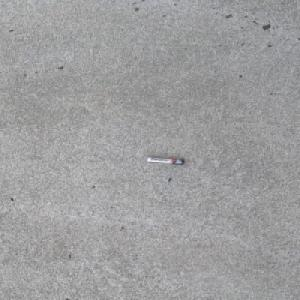Battery: (146, 156, 186, 165)
